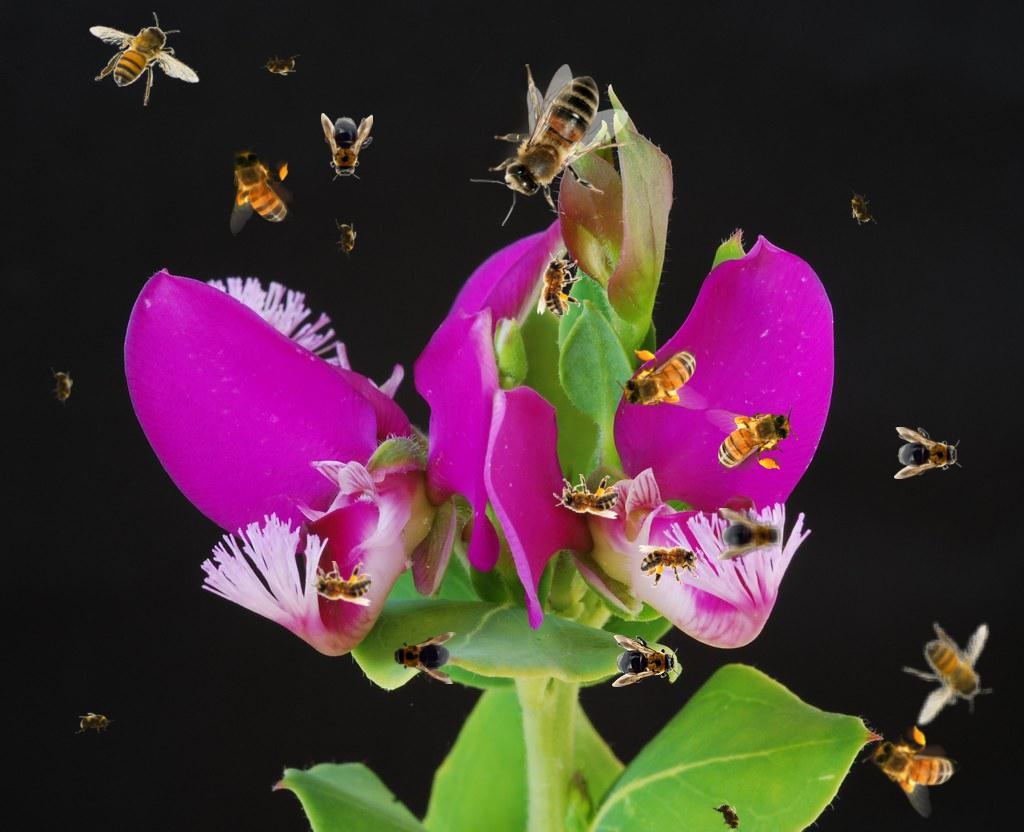Bee: (470, 64, 637, 226), (894, 612, 1003, 736), (857, 709, 971, 824), (89, 12, 200, 106), (225, 143, 293, 236), (705, 405, 798, 473), (616, 346, 709, 414), (637, 536, 709, 591), (894, 427, 962, 479), (388, 632, 456, 684), (321, 113, 373, 181), (612, 635, 680, 687), (717, 508, 785, 560), (537, 250, 582, 316), (306, 561, 372, 606), (553, 474, 619, 519), (844, 185, 878, 231), (709, 794, 749, 832), (75, 712, 115, 734), (335, 219, 357, 259), (260, 54, 300, 76), (51, 367, 73, 407)
